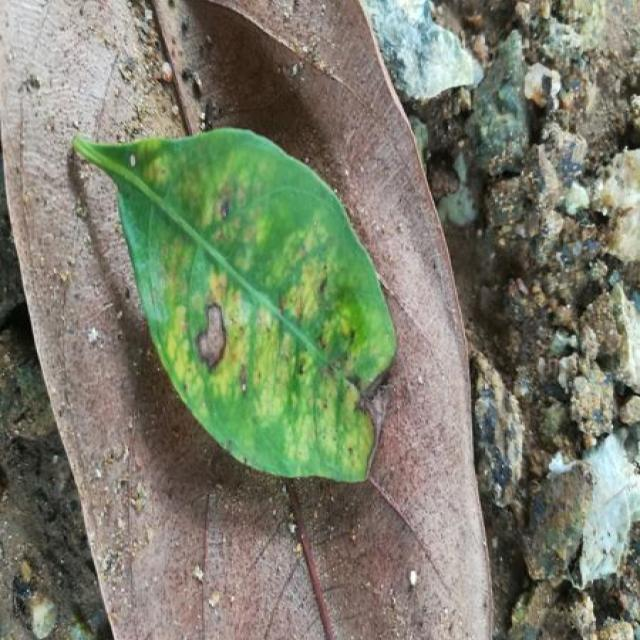henna: (75, 128, 397, 482)
leaf spot: (125, 135, 397, 482)
